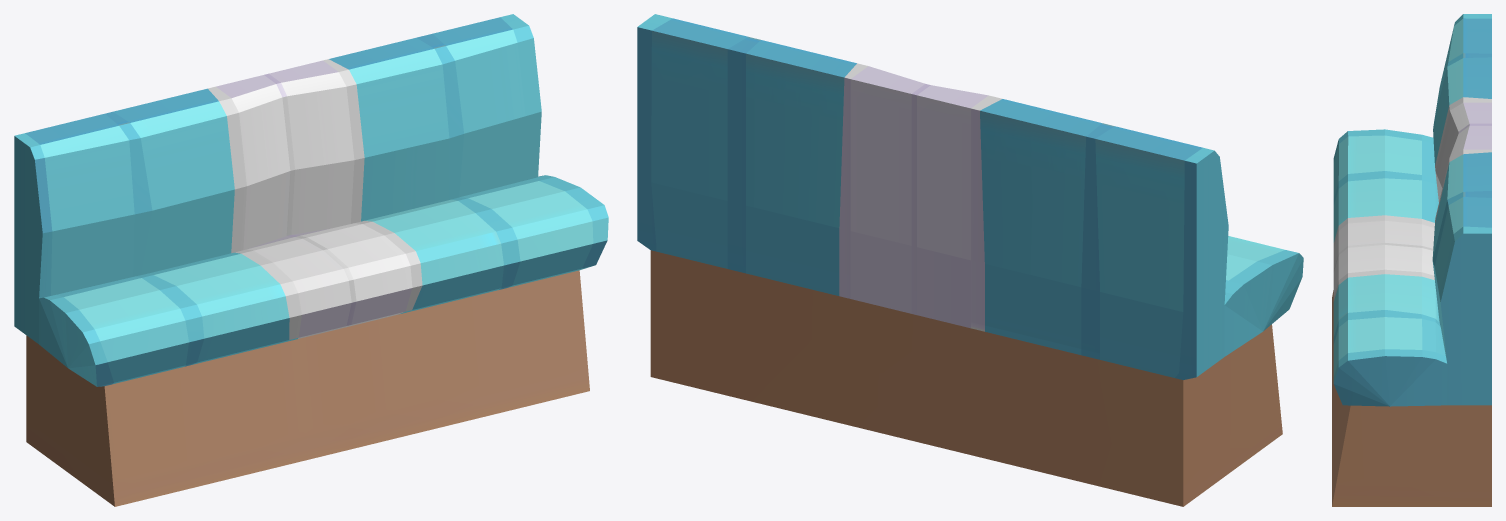
Rendered from BoothStr_Mesh.fbx.
3 views of the same model, side by side, from view 1: azimuth 30°, elevation 25°; view 2: azimuth 150°, elevation 25°; view 3: azimuth 270°, elevation 25° (orthographic). The views are drawn at different scales.
Parts seen in each view (by area): view 1: BoothStr_Mesh; view 2: BoothStr_Mesh; view 3: BoothStr_Mesh.
Boxes of the visible parts, x1,y1,x2,y2 form: BoothStr_Mesh: [14, 14, 608, 506]; BoothStr_Mesh: [637, 14, 1303, 506]; BoothStr_Mesh: [1332, 14, 1491, 506].
Bounding box in the file's own units: 222 × 126 × 65.31.
Materials: 1 (1 with a texture image).
